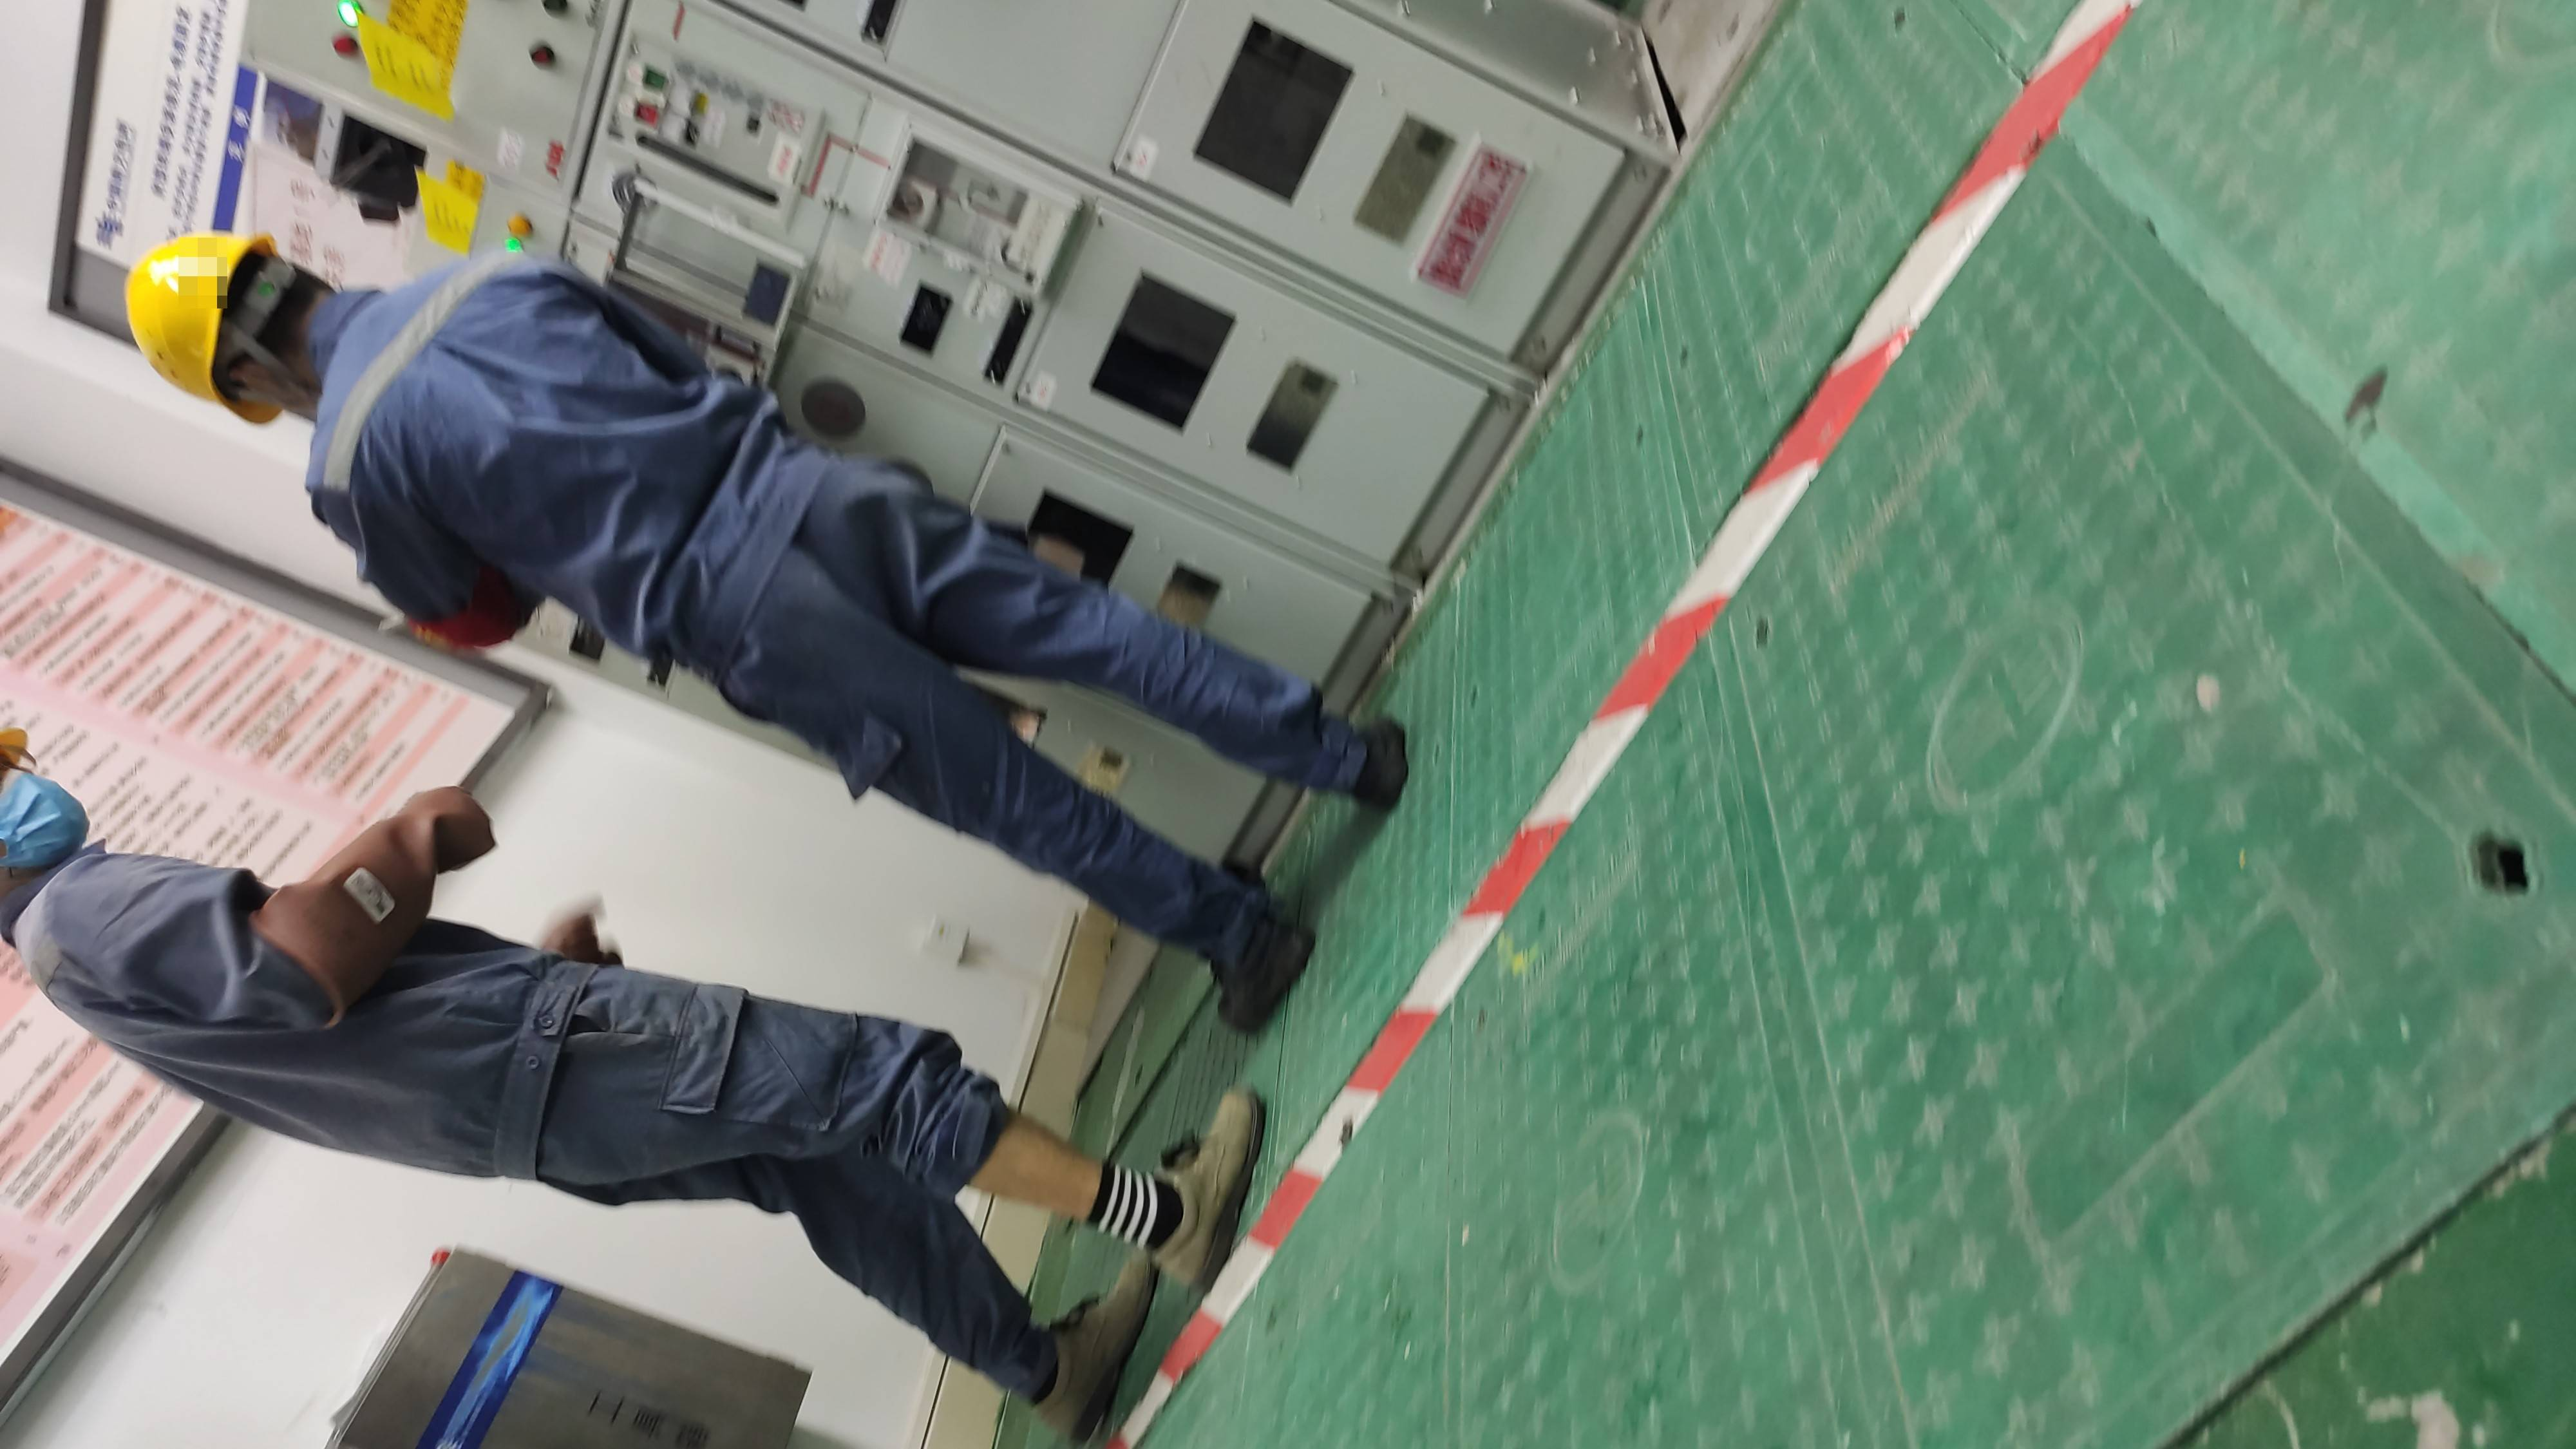downsuit: (770, 476, 1345, 943), (586, 985, 994, 1359)
upsuit: (317, 274, 800, 635), (34, 869, 571, 1162)
wrongbottom: (863, 1058, 1108, 1223)
